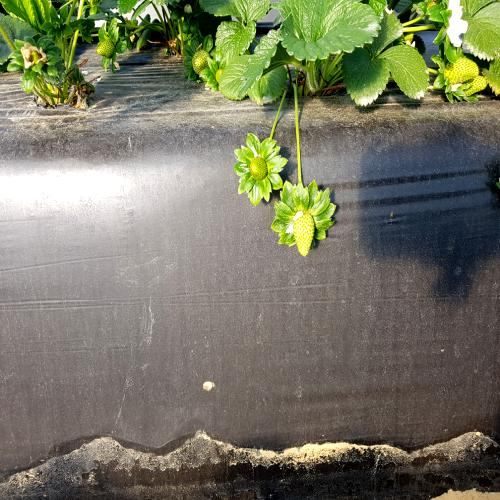unripe: (288, 205, 320, 263)
